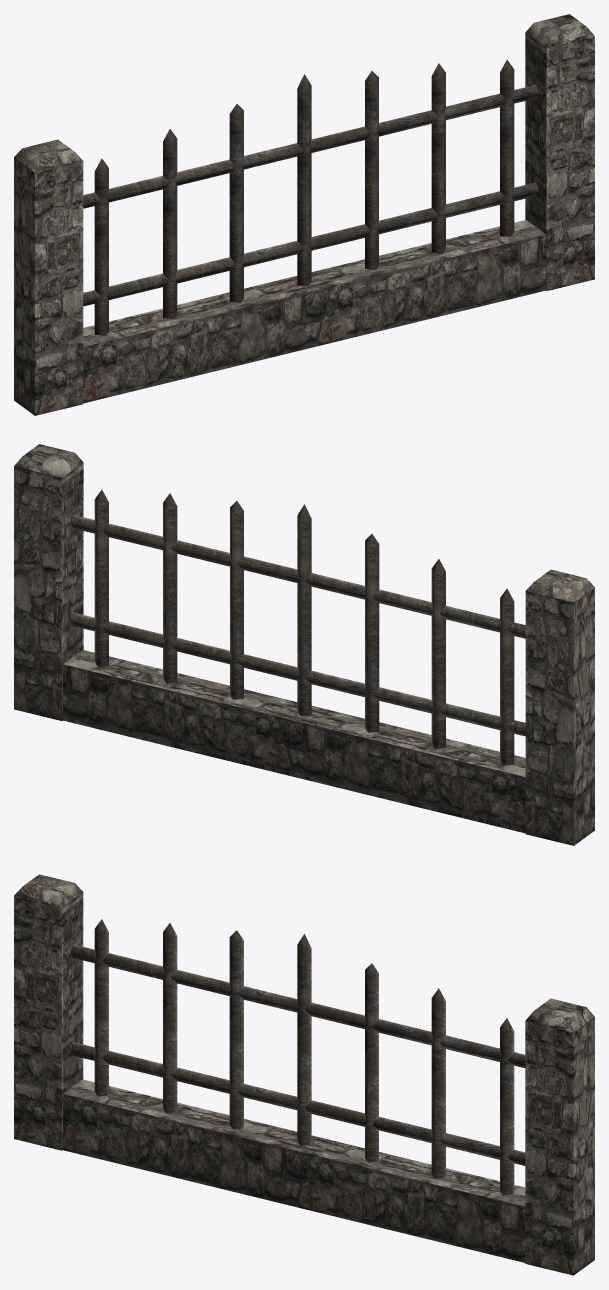
File: Stone_Iron_Parapet.dae
3 renders of one model, top to bottom at view 1: azimuth 30°, elevation 25°; view 2: azimuth 150°, elevation 25°; view 3: azimuth 330°, elevation 25°, orthographic.
Parts seen in each view (by area): view 1: StoneParapet1; view 2: StoneParapet1; view 3: StoneParapet1.
Boxes of the visible parts, x1=… form: StoneParapet1: x1=14, y1=14, x2=594, y2=415; StoneParapet1: x1=14, y1=444, x2=594, y2=845; StoneParapet1: x1=14, y1=874, x2=594, y2=1275.
Size of the model in its own units: 4.04 by 1.83 by 0.2666.
Materials: 1 (1 with a texture image).
